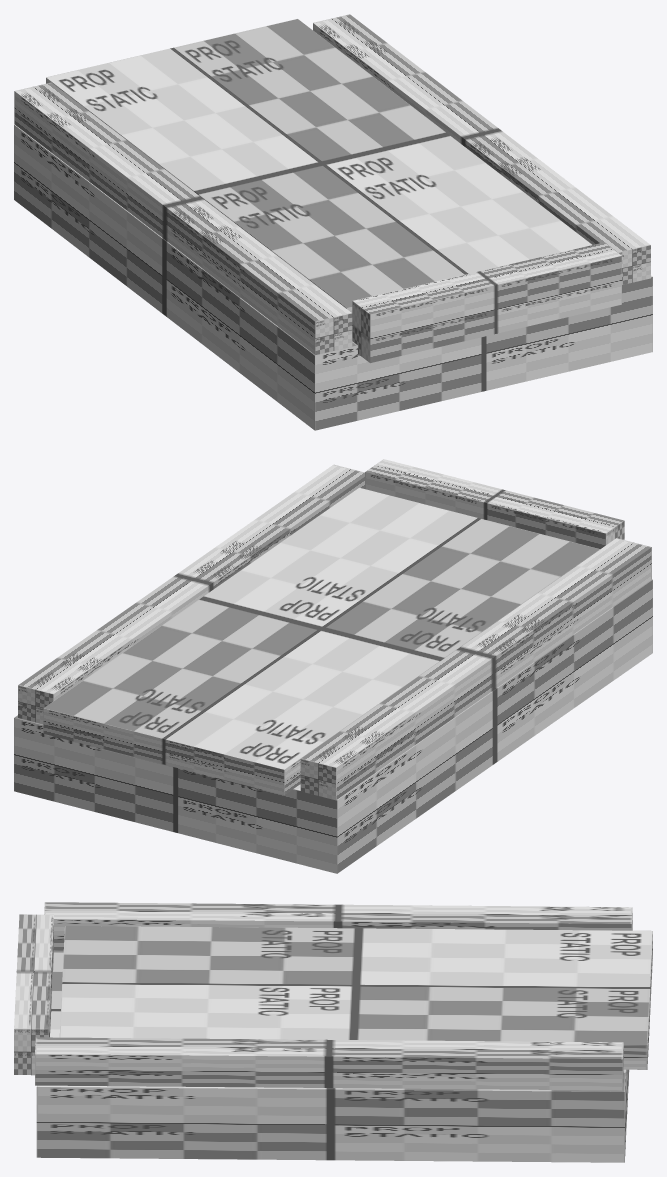
Rendered from Lever Plate.fbx.
The picture shows the model from 3 angles, top to bottom: view 1: azimuth 30°, elevation 25°; view 2: azimuth 150°, elevation 25°; view 3: azimuth 270°, elevation 25°; orthographic projection. The views are drawn at different scales.
Parts seen in each view (by area): view 1: moveable, Lever_Plate, Cube__29_, moveable_plate__1_, Cube__30_; view 2: moveable, Lever_Plate, Cube__29_, Cube__30_, moveable_plate__1_; view 3: moveable, Lever_Plate, Cube__30_, Cube__29_, moveable_plate__1_.
Boxes of the visible parts, x1,y1,x2,y2 form: moveable: (46,19,592,312); Lever_Plate: (14,124,652,430); Cube__29_: (14,82,352,354); moveable_plate__1_: (352,242,621,363); Cube__30_: (313,14,650,284); moveable: (43,487,599,795); Lever_Plate: (14,579,652,873); Cube__29_: (300,538,651,800); Cube__30_: (18,464,364,723); moveable_plate__1_: (365,459,624,549); moveable: (59,926,652,1069); Lever_Plate: (36,950,629,1162); Cube__30_: (35,1037,623,1090); Cube__29_: (44,902,632,950); moveable_plate__1_: (14,914,53,1075).
Bounding box in the file's own units: 262 × 83.83 × 445.
